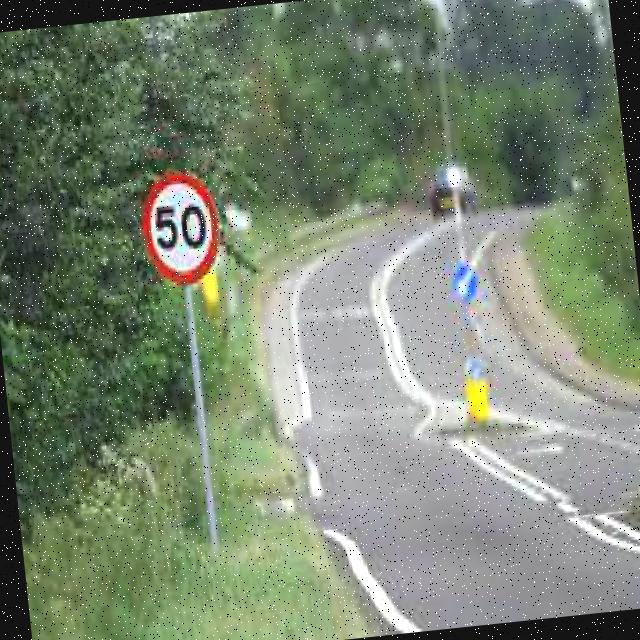Ograniczenie predkosci do 50: (136, 166, 226, 288)
